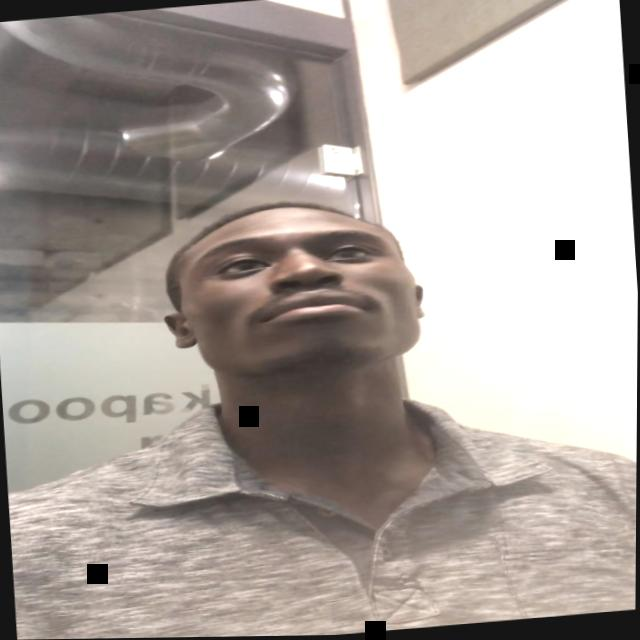NO-Mask: (171, 208, 425, 393)
